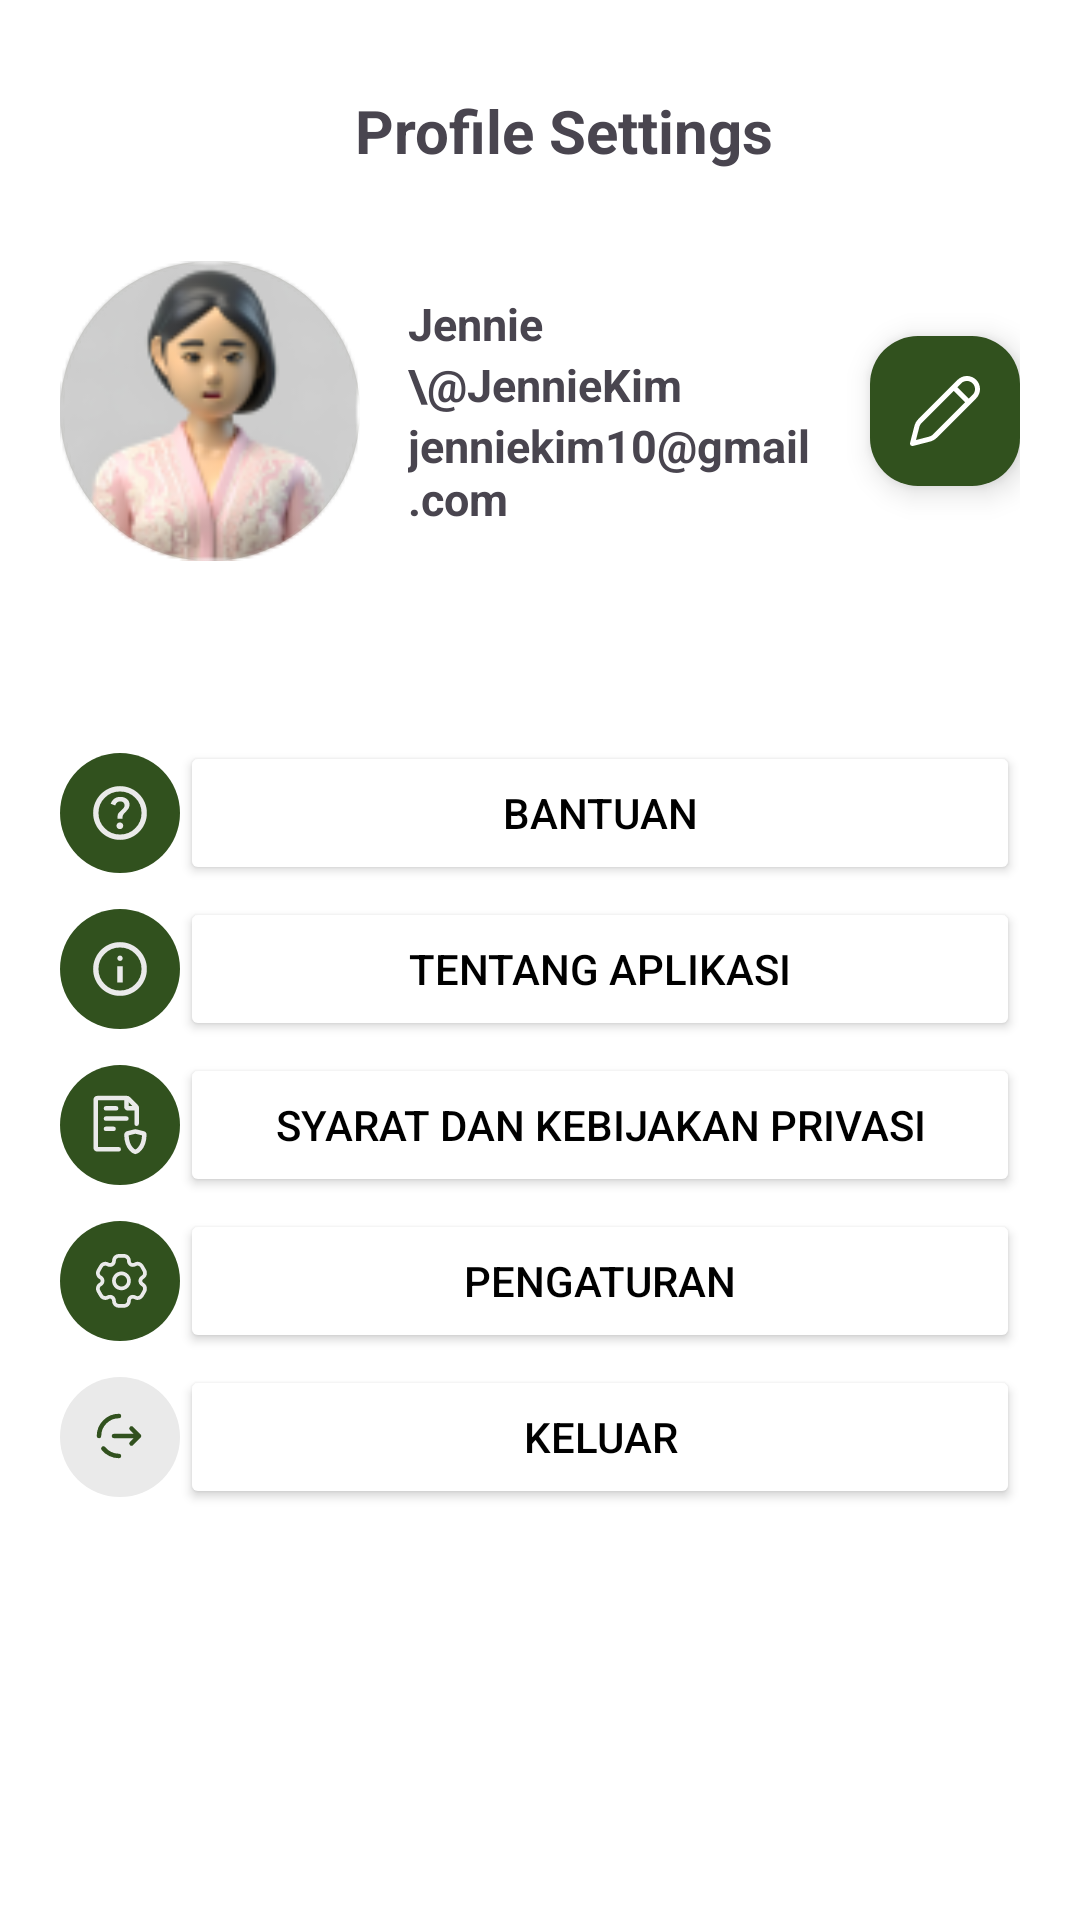

Where icons sit on this 1080x1920 app screen, as (x1, y1, x2, y2):
edit: (870, 336, 1020, 486)
policy: (60, 1065, 180, 1185)
profile holder: (60, 261, 359, 561)
setting: (60, 1221, 180, 1341)
